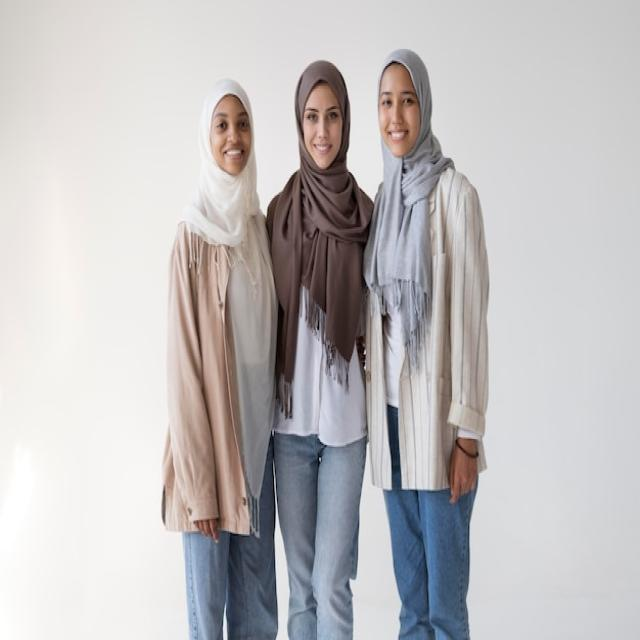Person: (365, 50, 488, 640), (162, 76, 278, 640), (268, 60, 374, 640)
